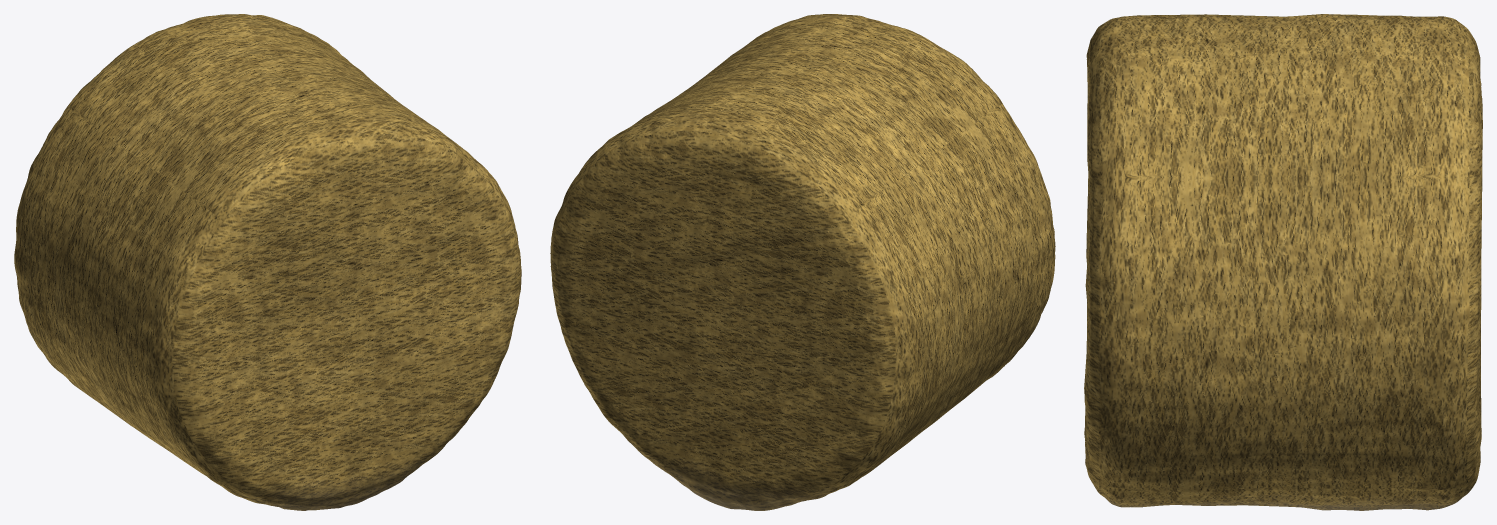
Rendered from SM_HayBale_Round_Body.fbx.
3 views of the same model, side by side, from view 1: azimuth 30°, elevation 25°; view 2: azimuth 150°, elevation 25°; view 3: azimuth 270°, elevation 25° (orthographic). The views are drawn at different scales.
Parts seen in each view (by area): view 1: HayBale_Round_Body; view 2: HayBale_Round_Body; view 3: HayBale_Round_Body.
Part boxes in pixels (left/top/right/bottom): HayBale_Round_Body: left=14, top=14, right=521, bottom=510; HayBale_Round_Body: left=550, top=14, right=1055, bottom=510; HayBale_Round_Body: left=1084, top=14, right=1482, bottom=510.
Bounding box in the file's own units: 1.22 × 1.52 × 1.54.
1 material, 1 textured.
